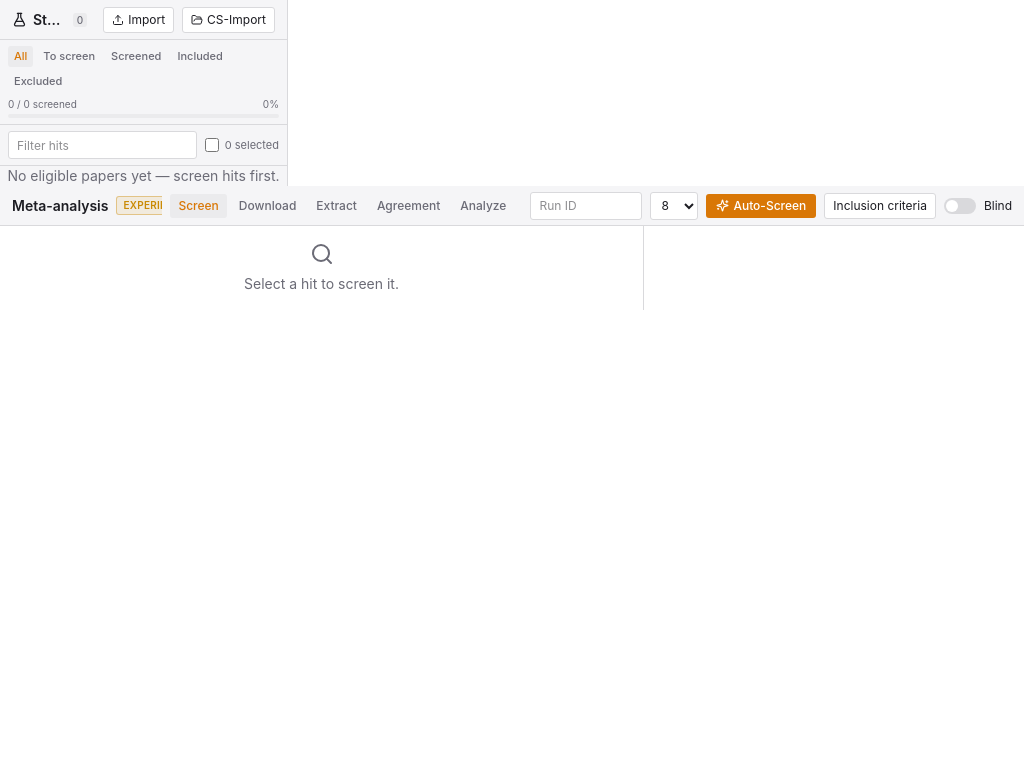
Test: MetaView analyze tab › renders the pooled KPIs and forest table from the analysis endpoints
The image size is (1024, 768).
Click the button "Analyze".
click(483, 206)  # box [452,194,514,218]
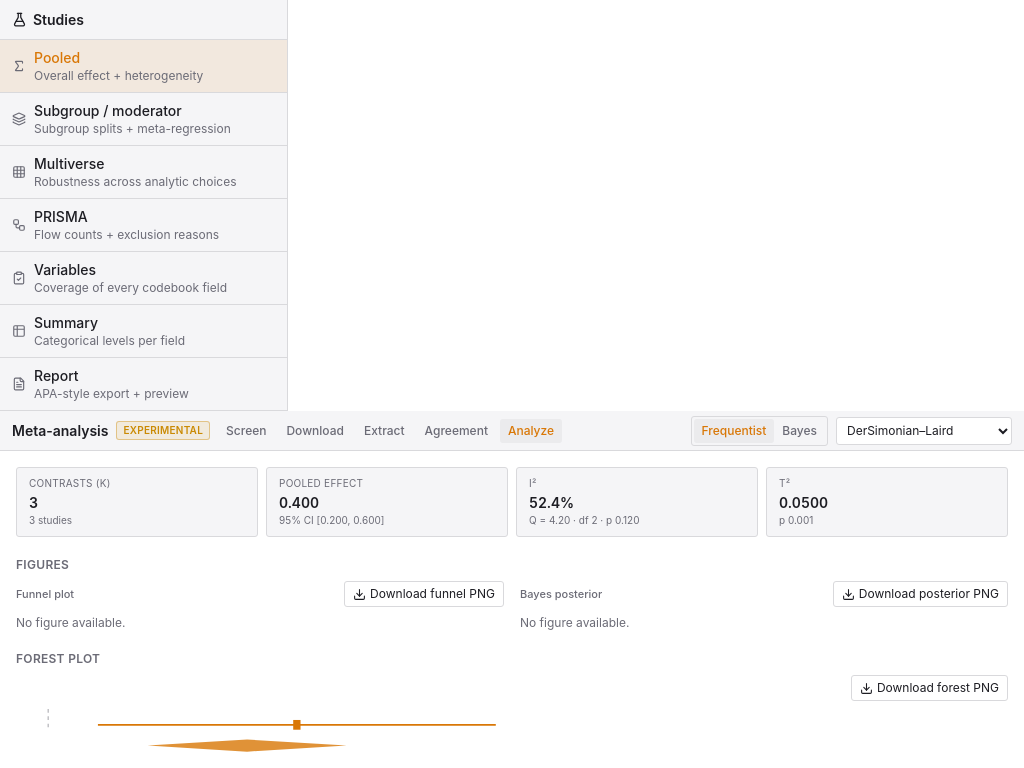
Now the text "Pooled effect" is shown, box [279,477,363,489]
Now the text "0.400" is shown, box [279,494,319,511]
Now the text "Forest plot" is shown, box [16,651,100,666]
